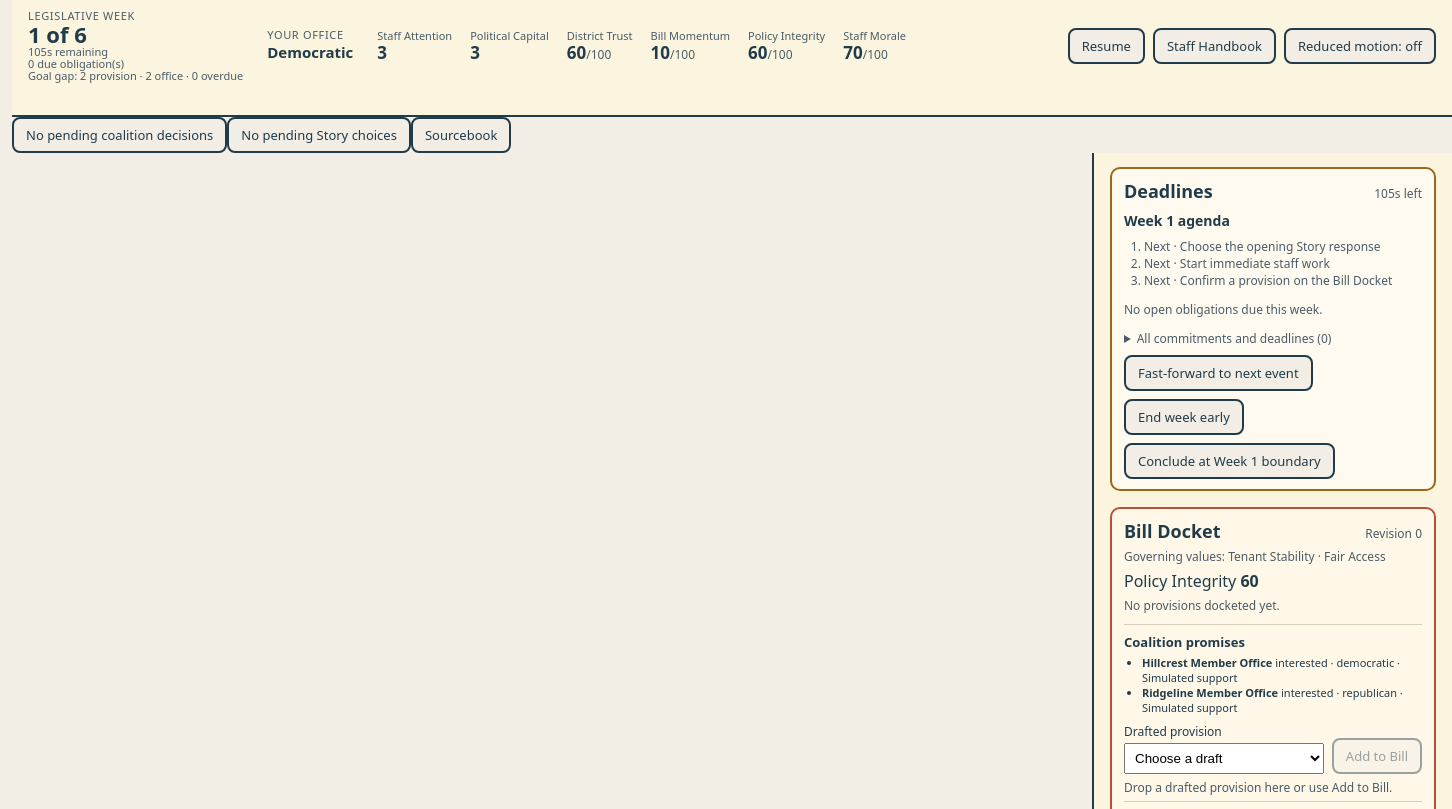
it: GameShell › renders remembered handbook explanations from a profile with no checkpoint
Click the button with test id "hud-handbook" at (1214, 46), box 1153,28 -> 1276,64
(page scrolled)
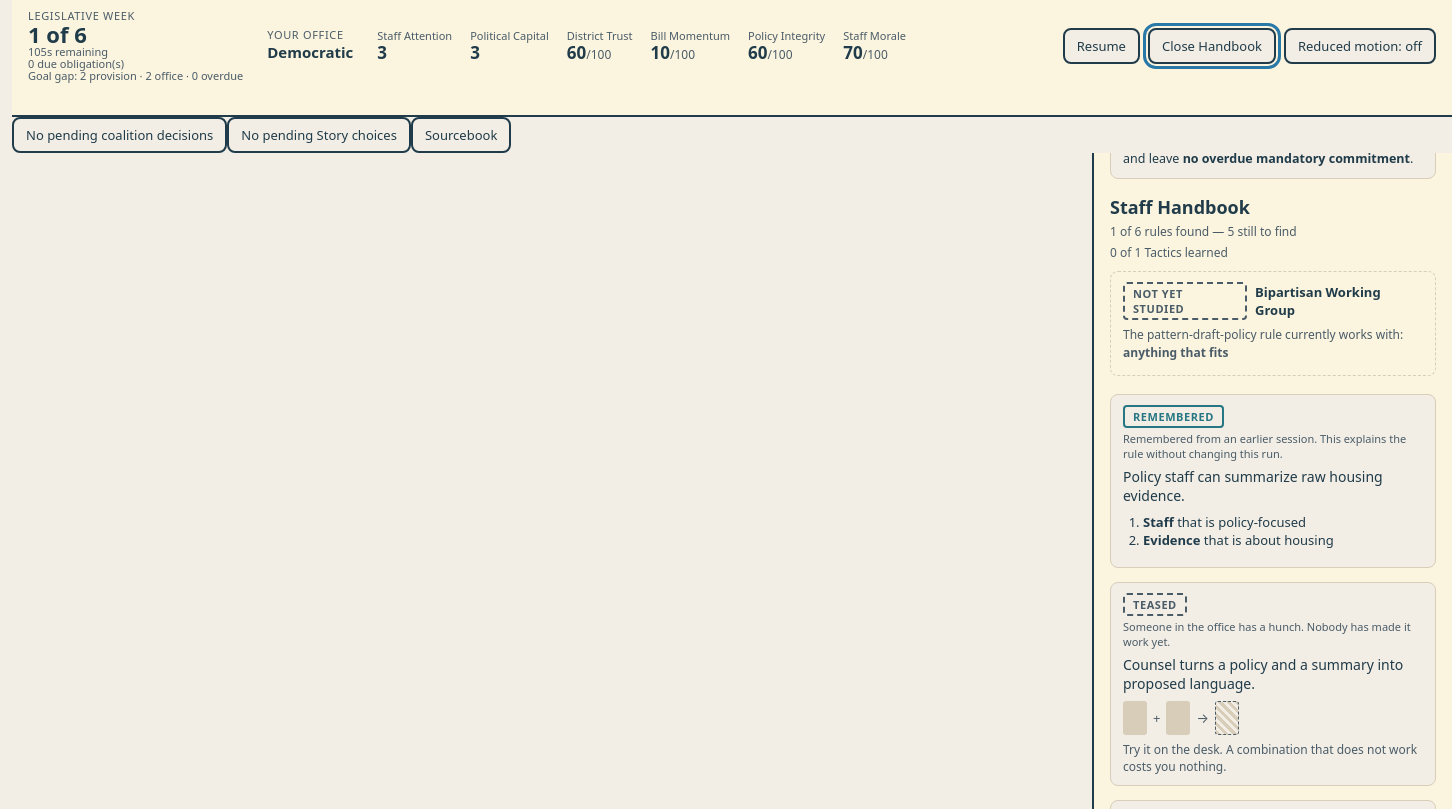
Now the list item with test id "handbook-entry-pattern-summarize-evidence" shows "Remembered", box 1133,409 -> 1214,424
Now the list item with test id "handbook-entry-pattern-summarize-evidence" shows "without changing this run", box 1123,431 -> 1406,461
